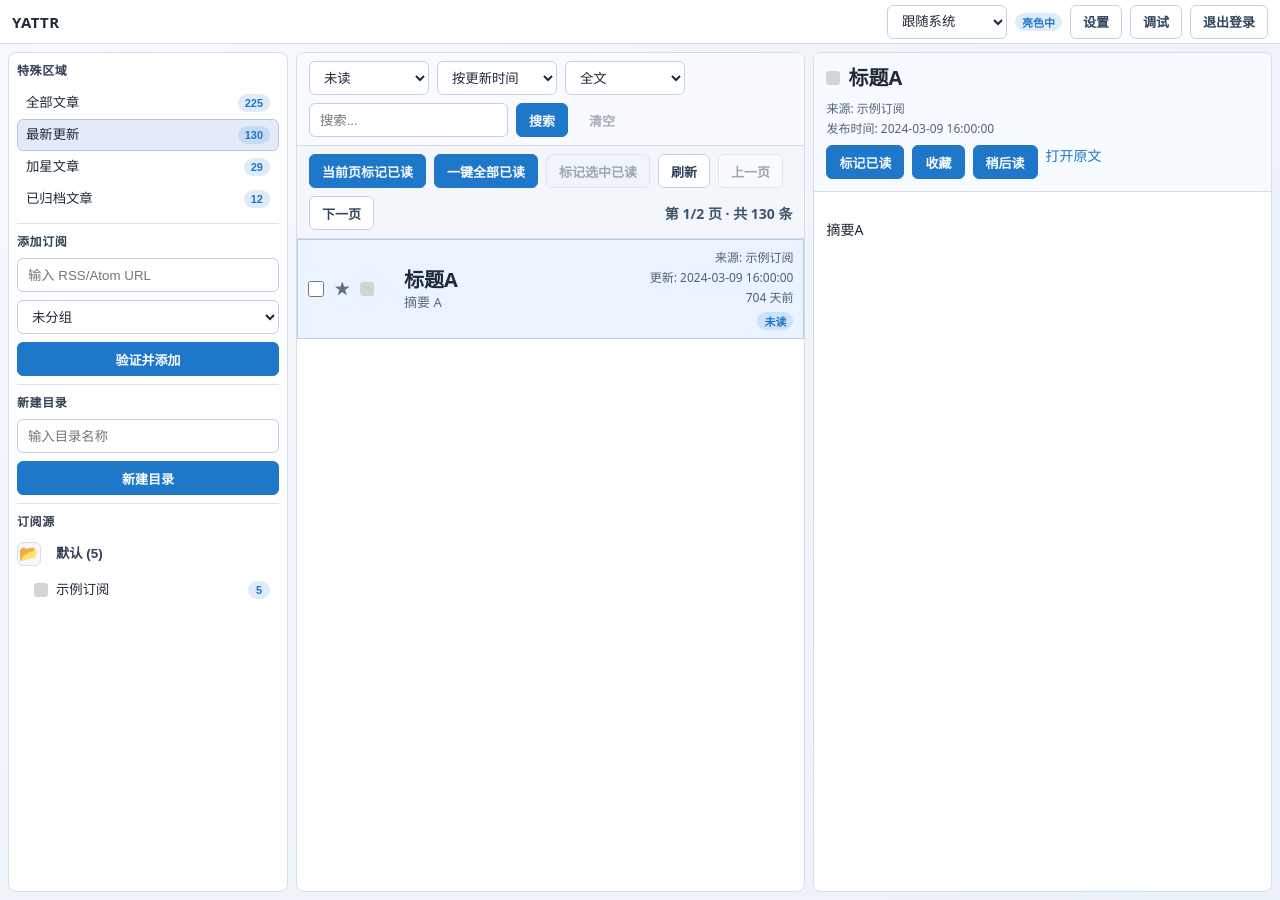
it: handles feed context menu actions
Right-click the text "示例订阅".
right_click(83, 590)  # box [56,581,109,599]
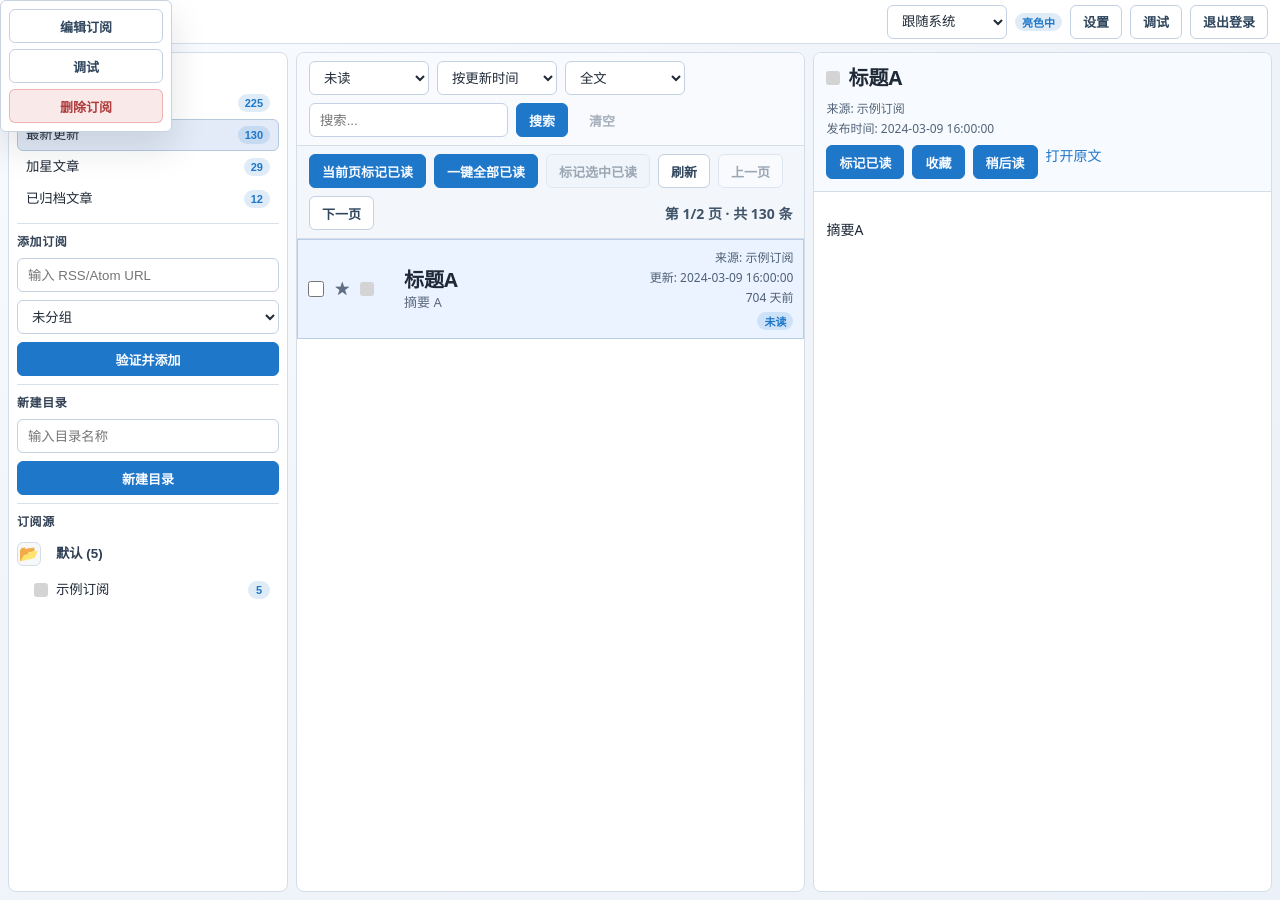
Click the 2nd button "调试".
click(86, 66)  # box [9,49,163,83]
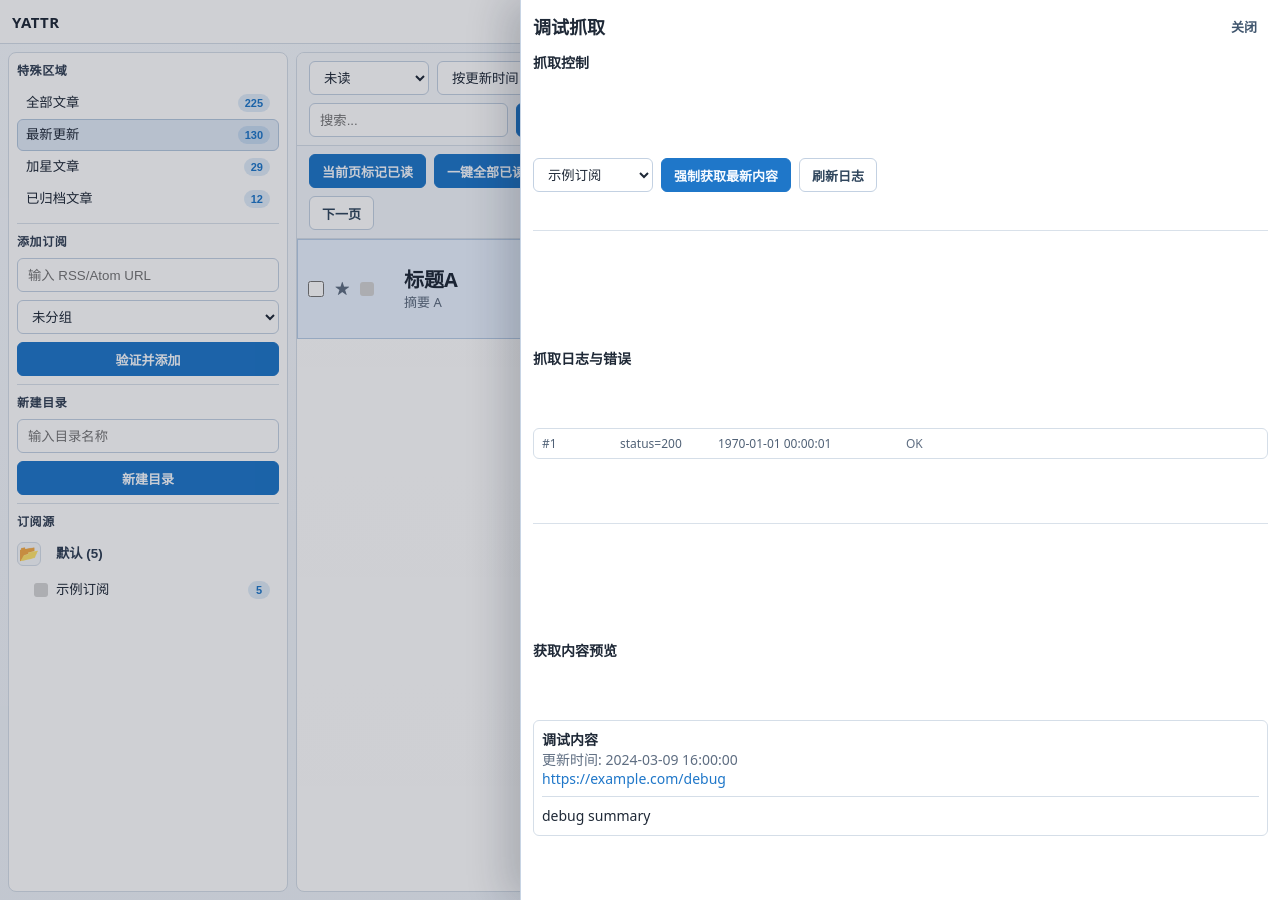
Now the dialog "调试抓取" is shown
